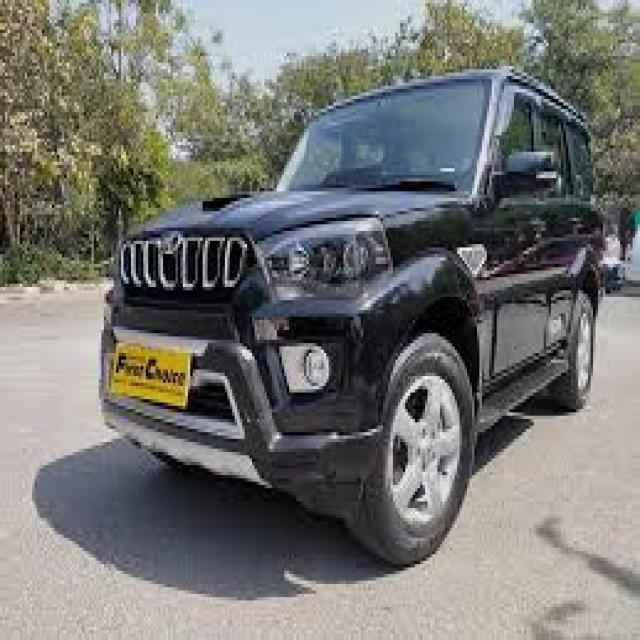Car: (100, 68, 601, 563)
